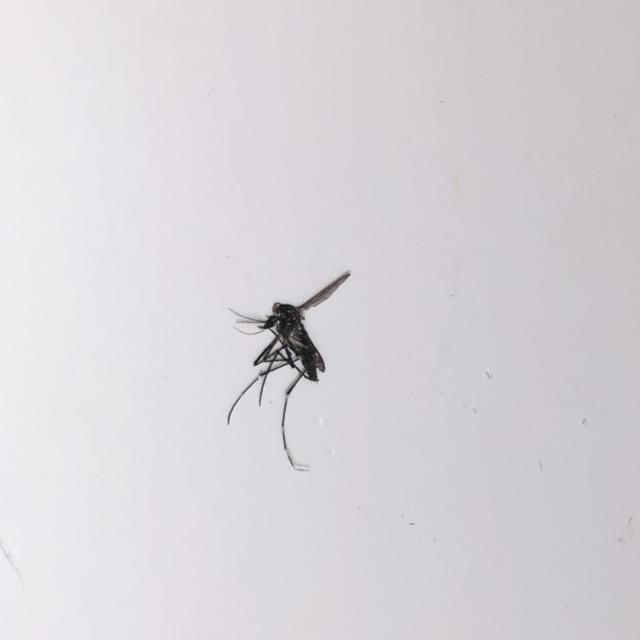albopictus: (220, 262, 358, 478)
